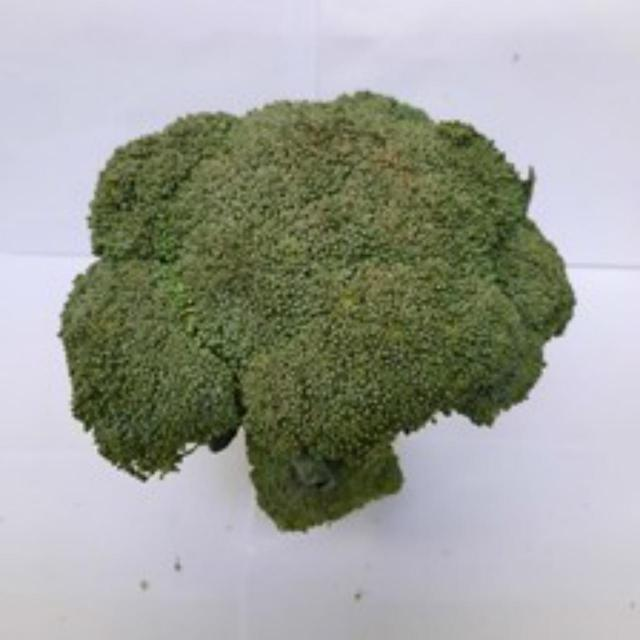broccoli: (66, 85, 581, 558)
